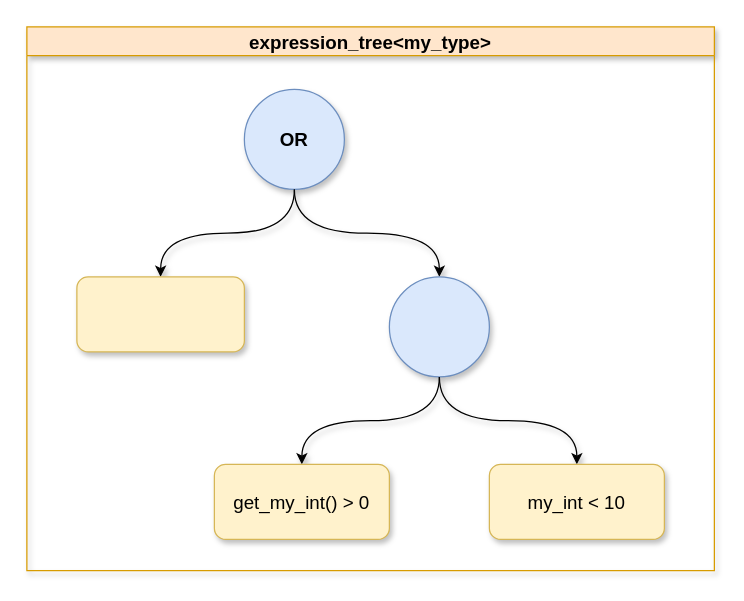
Some shapes in this 744 by 601 pixel diagram are drawn without their labels. The centre of each missing label's shape, as x and y in pixels:
AND: point (440, 328)
my_bool == true: point (161, 316)
